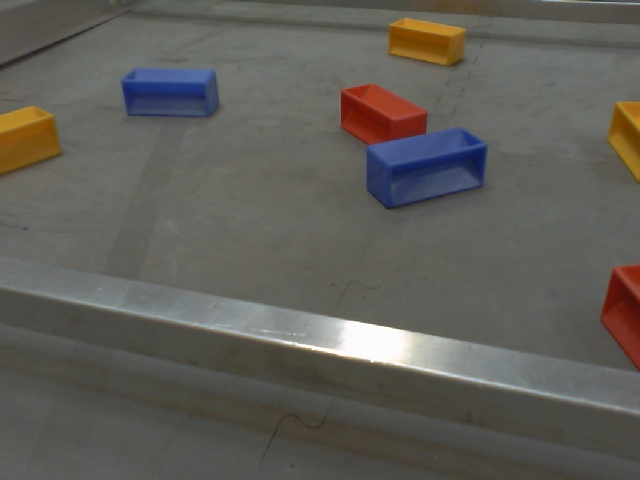BlueSample: (364, 126, 488, 209), (119, 65, 223, 119)
RedSample: (335, 79, 430, 147), (598, 260, 640, 376)
YellowSample: (1, 98, 61, 183), (382, 15, 472, 70), (605, 98, 640, 186)
